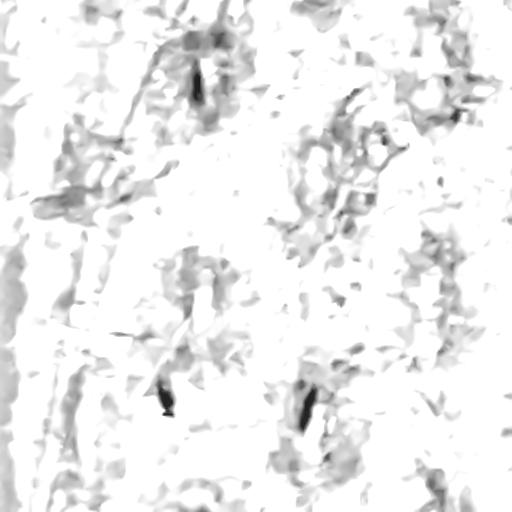egg: (298, 386, 317, 431), (188, 58, 205, 108), (158, 380, 173, 416)
